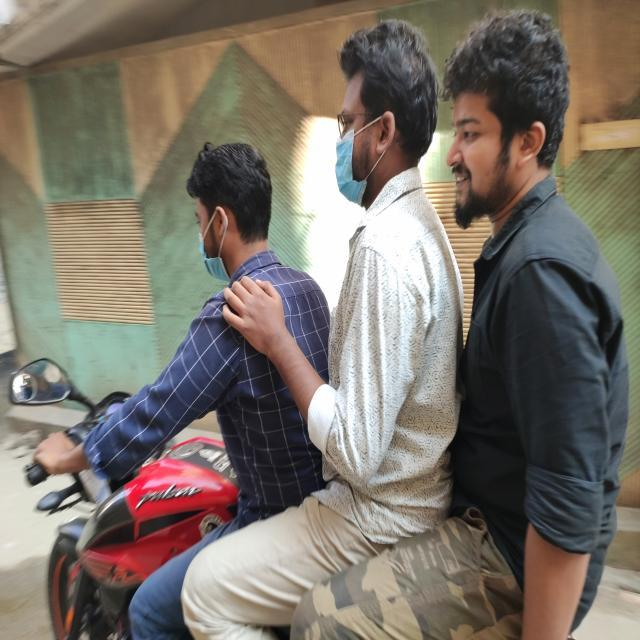Overloading: (101, 32, 632, 640)
